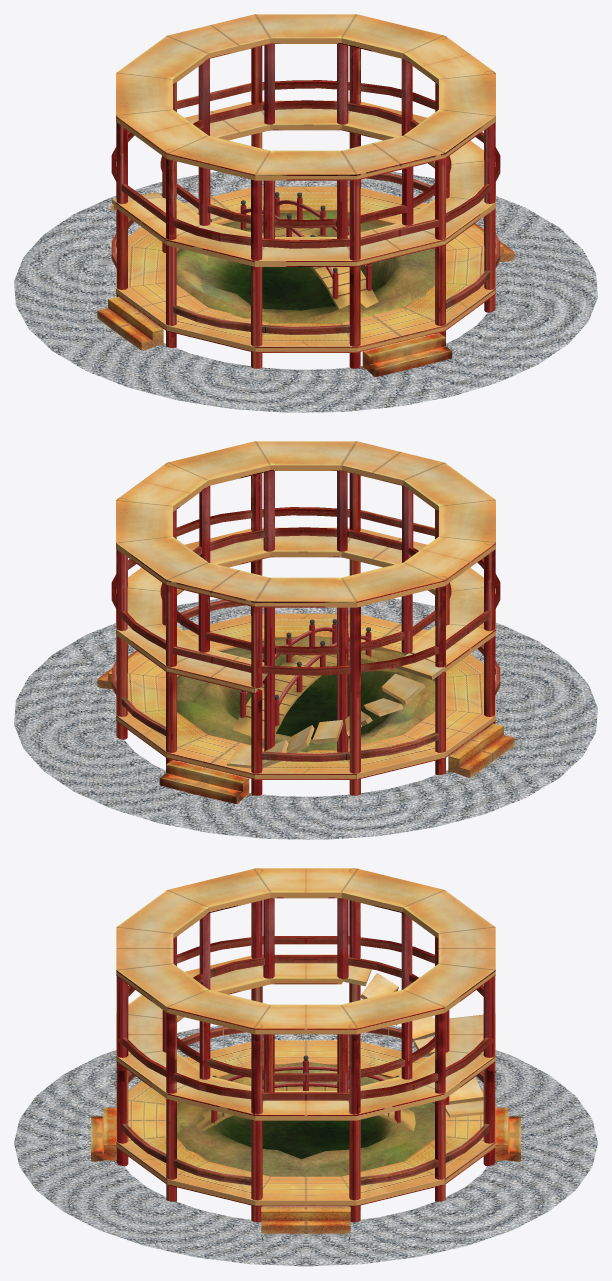
The model's file is Soul_Ring.glb.
The picture shows the model from 3 angles, top to bottom: view 1: azimuth 30°, elevation 25°; view 2: azimuth 150°, elevation 25°; view 3: azimuth 270°, elevation 25°; orthographic projection.
Parts seen in each view (by area): view 1: Soul_Ring, Circle_stone, Zen pond, Zen_bridge; view 2: Soul_Ring, Circle_stone, Zen pond, Zen_bridge; view 3: Soul_Ring, Circle_stone, Zen pond, Zen_bridge.
Boxes of the visible parts, x1,y1,x2,y2 form: Soul_Ring: (97,14,514,376); Circle_stone: (14,171,597,412); Zen pond: (176,211,434,322); Zen_bridge: (240,192,378,309); Soul_Ring: (97,441,514,803); Circle_stone: (14,598,597,839); Zen pond: (177,635,435,752); Zen_bridge: (233,619,377,738); Soul_Ring: (91,868,520,1233); Circle_stone: (14,1026,597,1266); Zen pond: (177,1062,434,1176); Zen_bridge: (196,1055,415,1131).
Size of what is drawn, in the model's own units: 30.79 by 11.49 by 30.79.
Materials: 2 (2 with a texture image).
